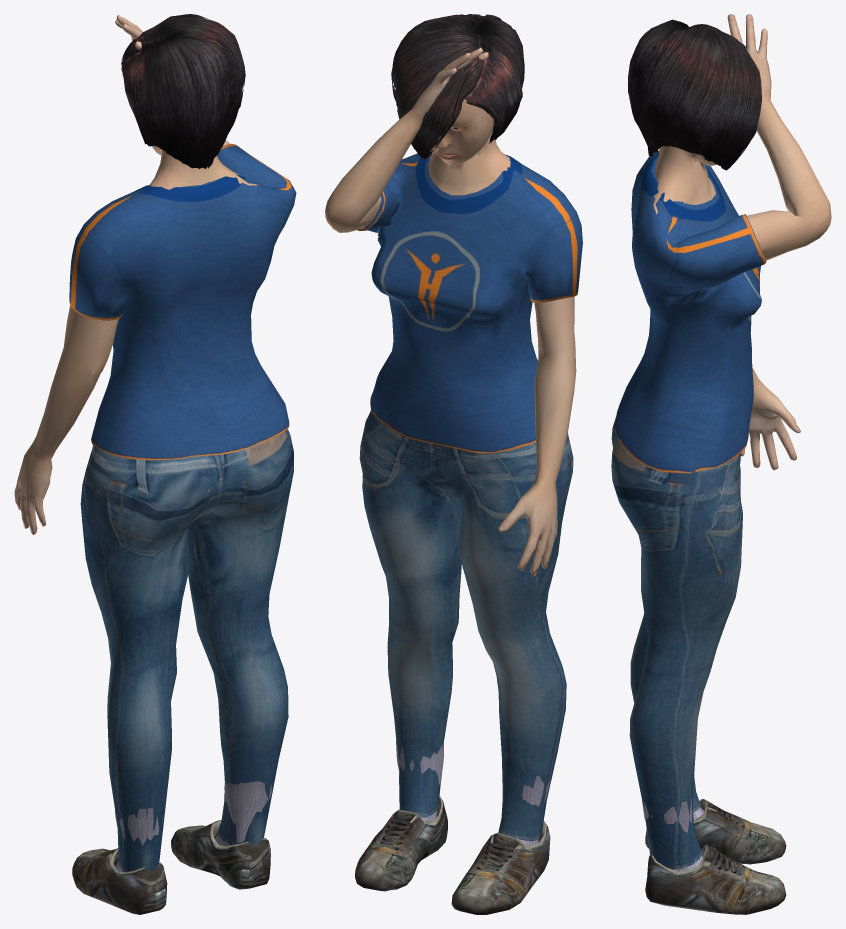
File: facepalm_3.gltf
3 views of the same model, side by side, from view 1: azimuth 30°, elevation 25°; view 2: azimuth 150°, elevation 25°; view 3: azimuth 270°, elevation 25° (orthographic).
Visible parts, largest first — view 1: facepalm; view 2: facepalm; view 3: facepalm.
Boxes of the visible parts, x1=… form: facepalm: x1=14, y1=14, x2=296, y2=914; facepalm: x1=325, y1=14, x2=582, y2=914; facepalm: x1=611, y1=14, x2=831, y2=914.
Size of the model in its own units: 0.3961 by 1.41 by 0.329.
6 materials, 6 textured.
